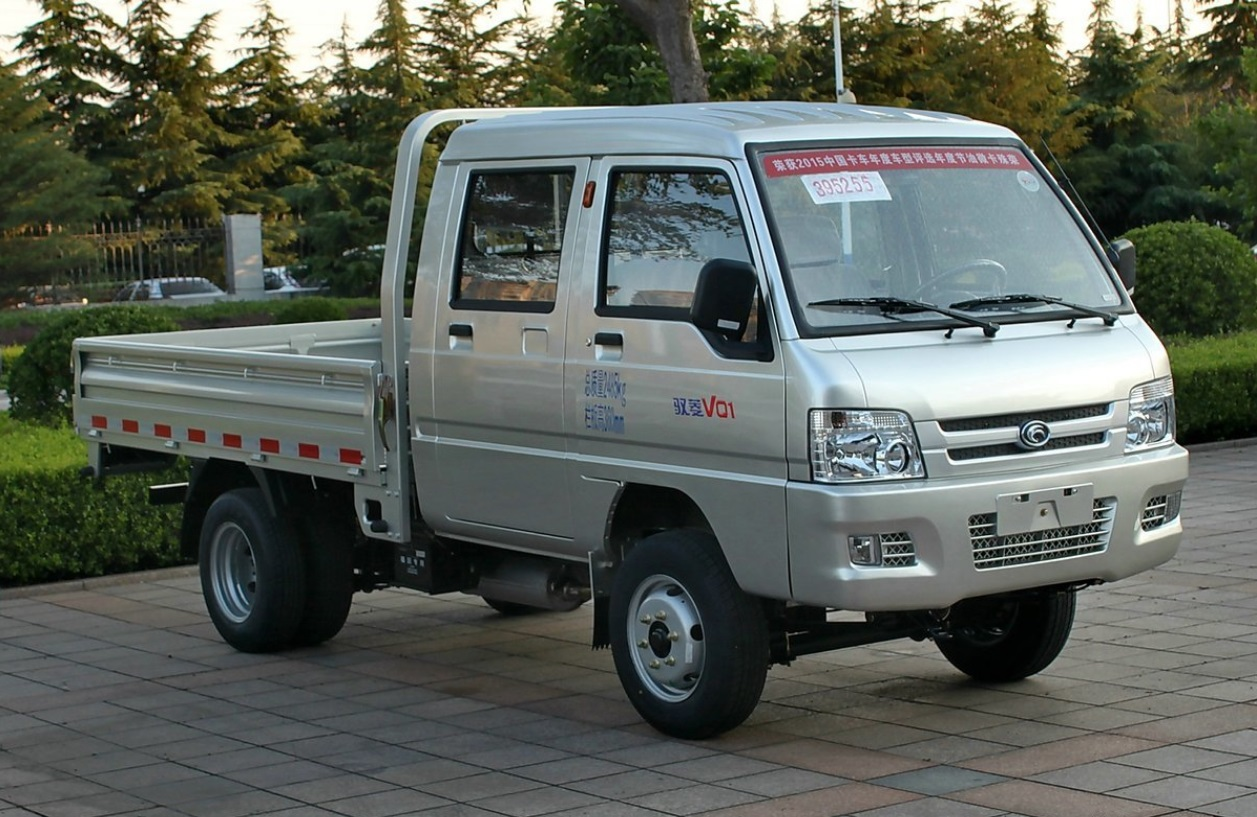truck: (64, 101, 1206, 745)
